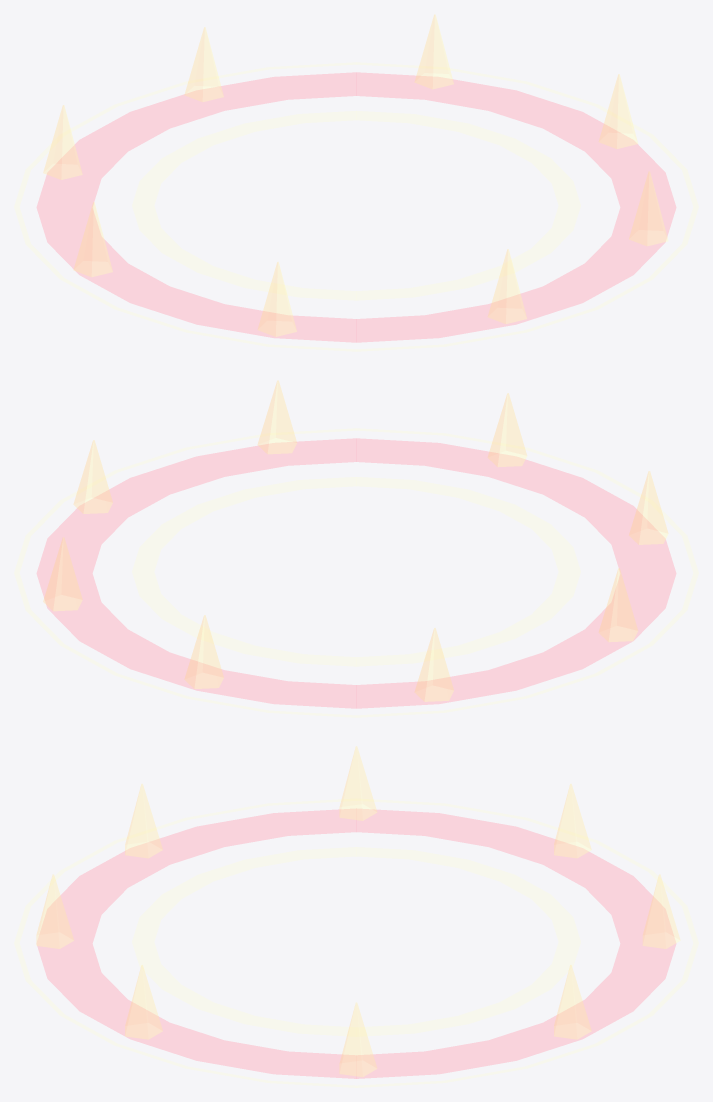
File: brillo_elite.glb
3 renders of one model, top to bottom at view 1: azimuth 30°, elevation 25°; view 2: azimuth 150°, elevation 25°; view 3: azimuth 270°, elevation 25°, orthographic.
Parts seen in each view (by area): view 1: brillo_elite; view 2: brillo_elite; view 3: brillo_elite.
Boxes of the visible parts, x1,y1,x2,y2 form: brillo_elite: (14,14,698,351); brillo_elite: (14,380,698,717); brillo_elite: (14,746,698,1087).
Bounding box in the file's own units: 2.44 × 0.272 × 2.44.
